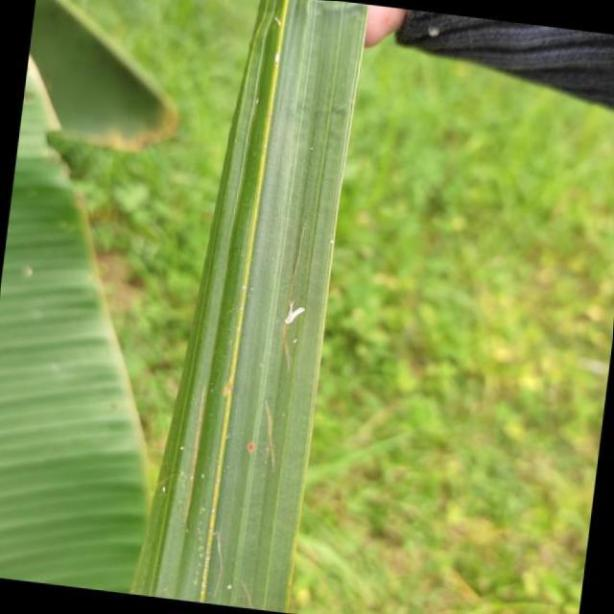Boron: (126, 0, 368, 614)
